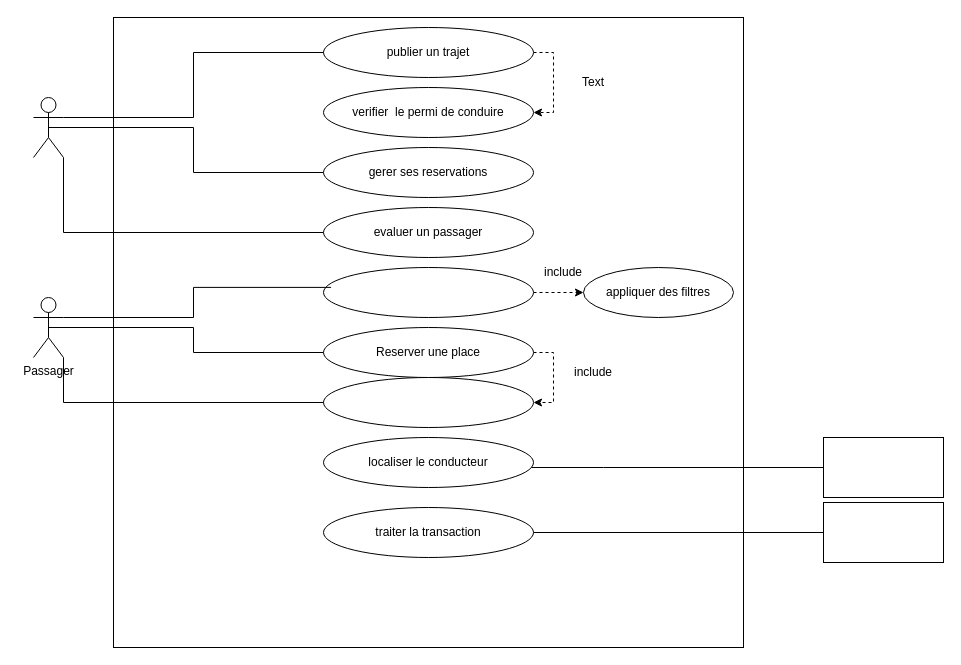
This 961x665 diagram has some shape labels left out. The box of each missing label's shape, as (x1, y1, x2, y2) in pixels:
Conducteur: (32, 96, 64, 158)
payer le trajet: (322, 376, 534, 428)
rechercher un trajet: (322, 266, 534, 318)
service paiement: (822, 502, 944, 562)
system geoloc: (822, 436, 944, 498)
